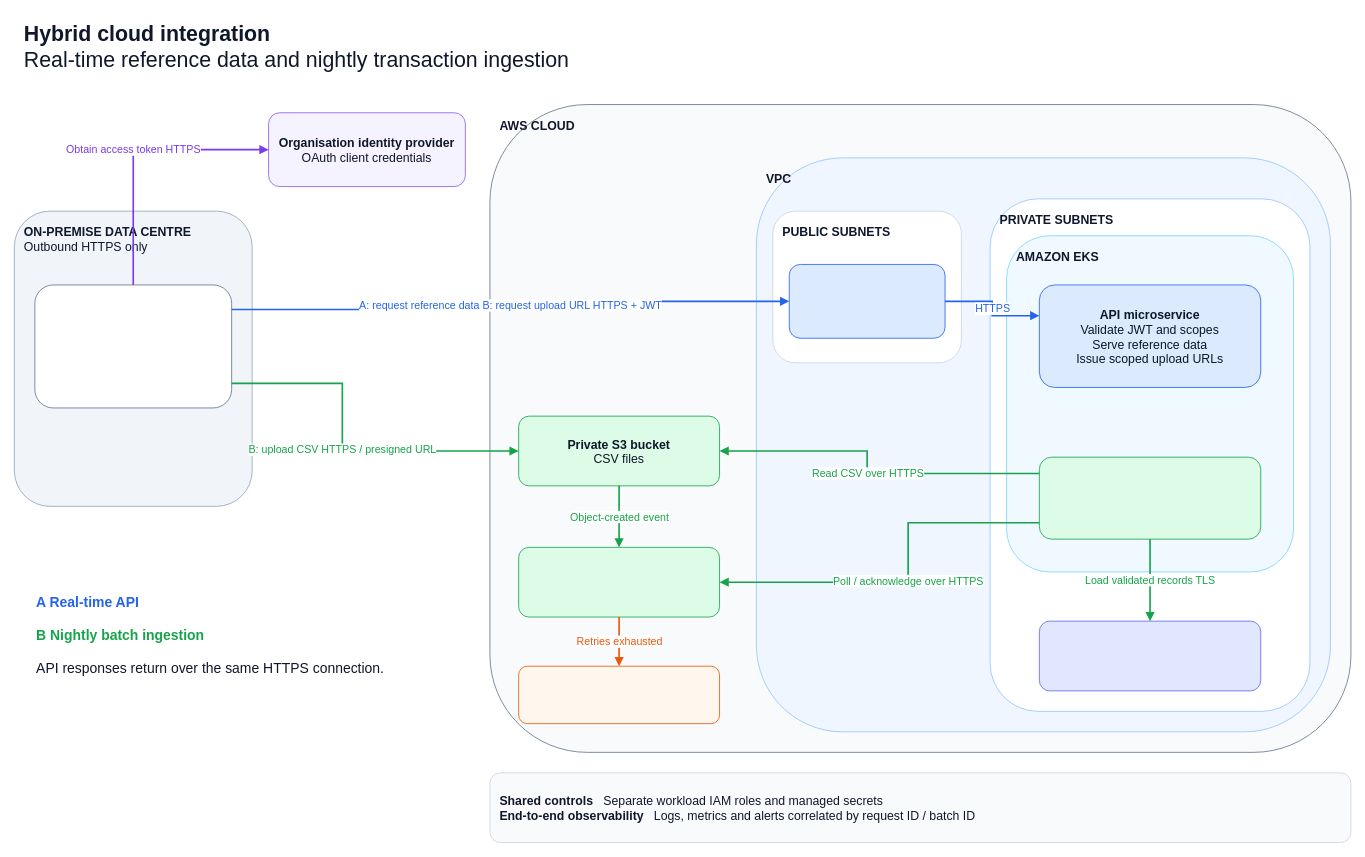
This 1365x857 diagram has some shape labels left out. Each missing label, with the centre of its shape:
"Batch worker Validate CSV Deduplicate and load" belongs at point (1150, 497).
"Dead-letter queue Failed processing" belongs at point (619, 694).
"Legacy application VM Reference-data client Scheduled CSV uploader" belongs at point (133, 346).
"Public ALB HTTPS endpoint" belongs at point (866, 301).
"RDS PostgreSQL Transaction records Batch status" belongs at point (1150, 655).
"SQS ingestion queue File notifications" belongs at point (619, 582).
